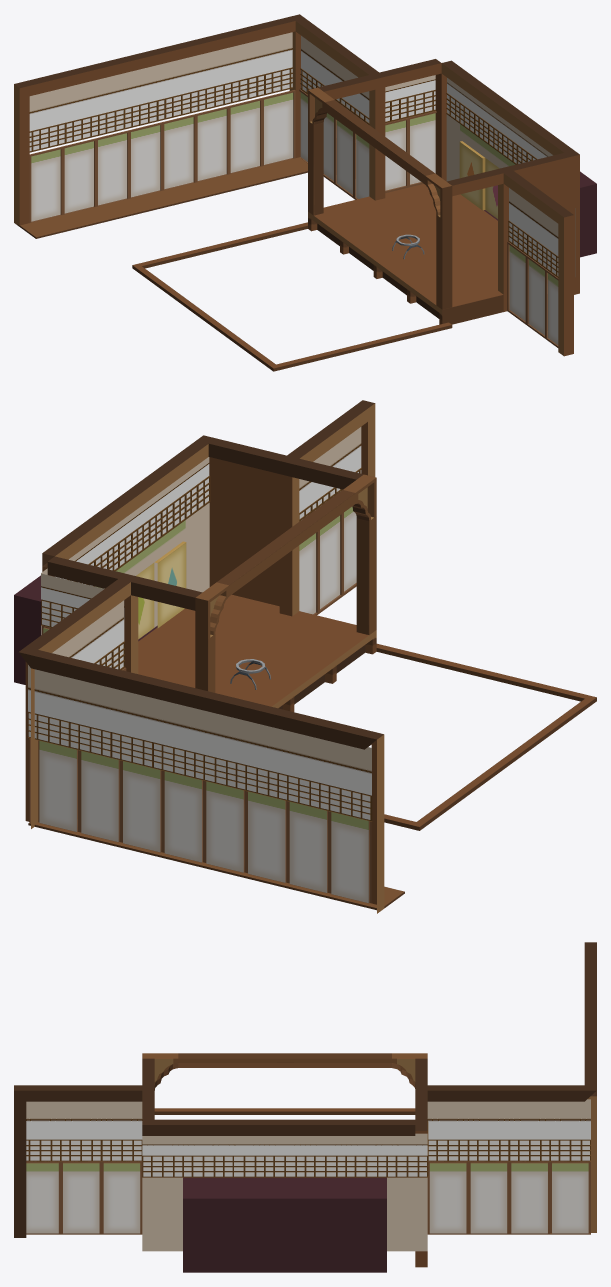
Rendered from dojoInterior_MESH_v4.fbx.
3 renders of one model, top to bottom at view 1: azimuth 30°, elevation 25°; view 2: azimuth 150°, elevation 25°; view 3: azimuth 270°, elevation 25°, orthographic. The views are drawn at different scales.
Visible parts, largest first — view 1: dojoMain, doorRight; view 2: dojoMain, doorLeft; view 3: dojoMain.
Boxes of the visible parts, <box> form: dojoMain: <box>14,14,596,371</box>; doorRight: <box>485,158,499,218</box>; dojoMain: <box>14,400,596,913</box>; doorLeft: <box>136,563,154,639</box>; dojoMain: <box>14,942,596,1272</box>.
Bounding box in the file's own units: 1169 × 399 × 1430.
